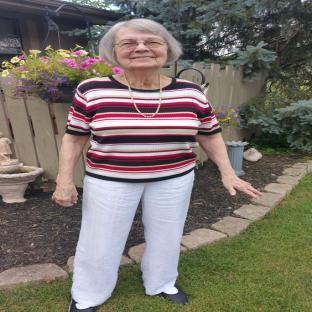Human: (53, 19, 261, 312)
